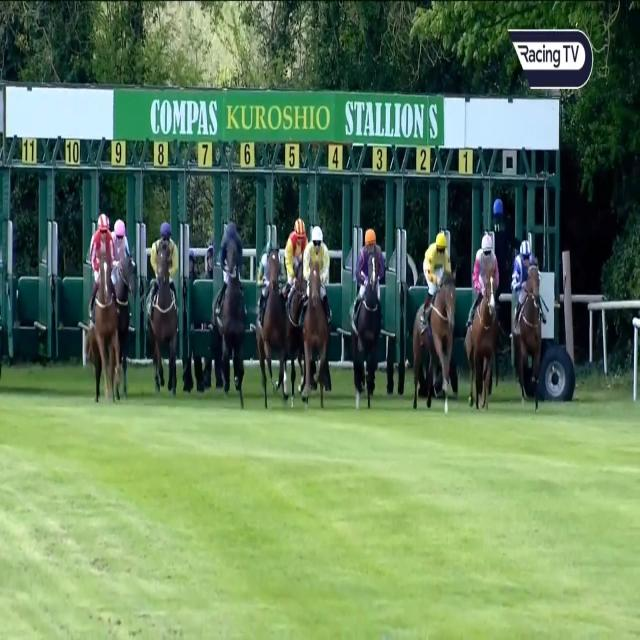horses-racing: (414, 230, 457, 415), (142, 216, 182, 389), (212, 217, 248, 408), (300, 231, 334, 414), (468, 230, 504, 402), (352, 230, 385, 408), (512, 236, 548, 399), (88, 216, 118, 407), (283, 216, 311, 416), (254, 240, 284, 400), (114, 219, 131, 389)
